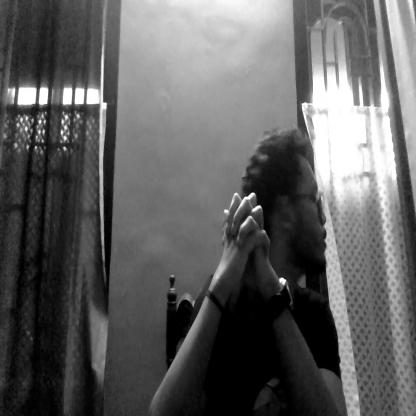Distracted: (265, 134, 332, 286)
